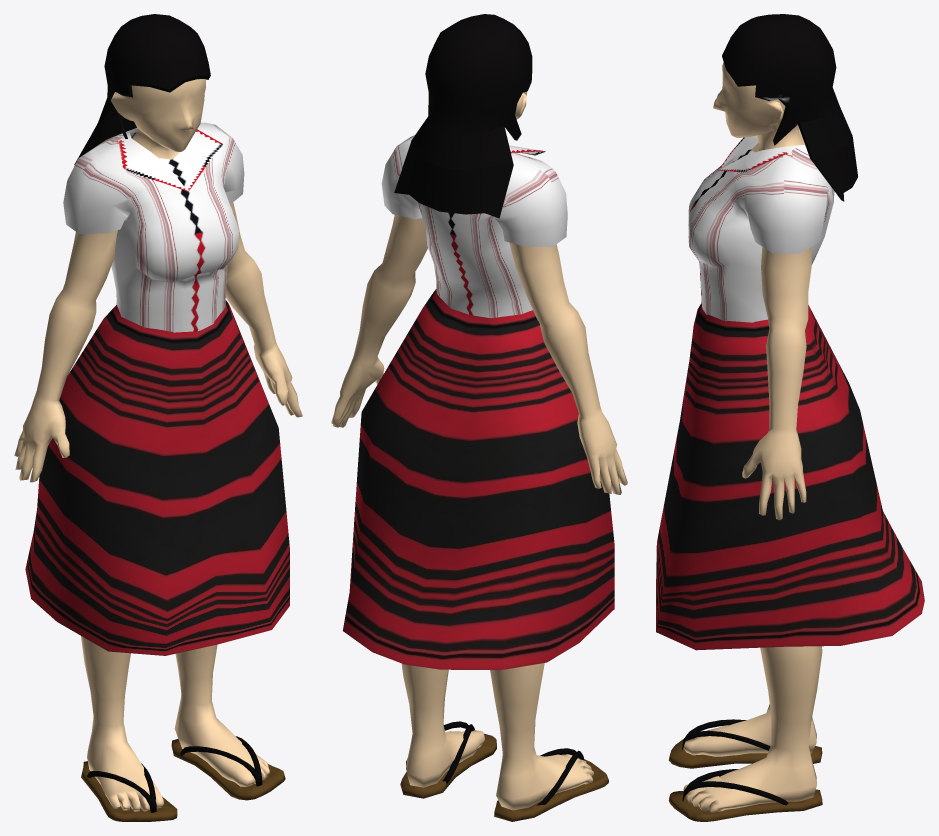
Rendered from Fukon.glb.
3 views of the same model, side by side, from view 1: azimuth 30°, elevation 25°; view 2: azimuth 150°, elevation 25°; view 3: azimuth 270°, elevation 25° (orthographic). The views are drawn at different scales.
Visible parts, largest first — view 1: Female_Tagalog.009; view 2: Female_Tagalog.009; view 3: Female_Tagalog.009.
Boxes of the visible parts, <box> form: Female_Tagalog.009: <box>14,14,302,821</box>; Female_Tagalog.009: <box>331,14,627,821</box>; Female_Tagalog.009: <box>656,14,924,821</box>.
Bounding box in the file's own units: 0.9967 × 2.6 × 0.8296.
1 material, 1 textured.
